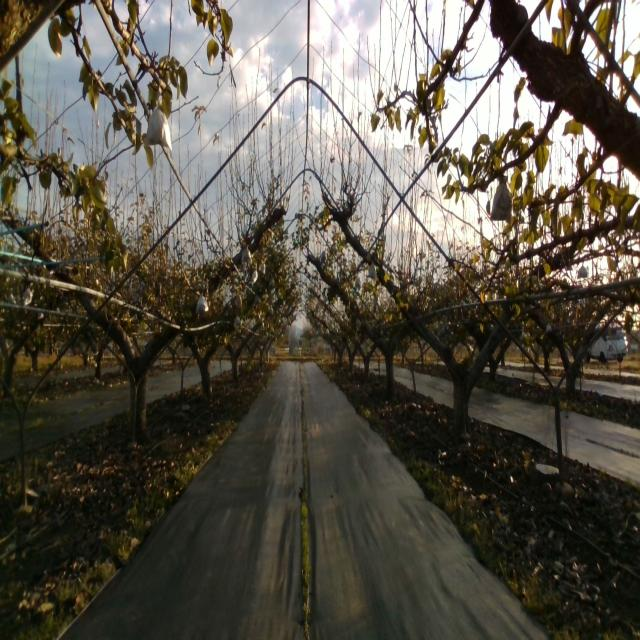pearbags: (144, 98, 170, 148), (490, 175, 512, 222), (195, 292, 209, 314), (241, 247, 252, 266), (366, 261, 376, 280)
